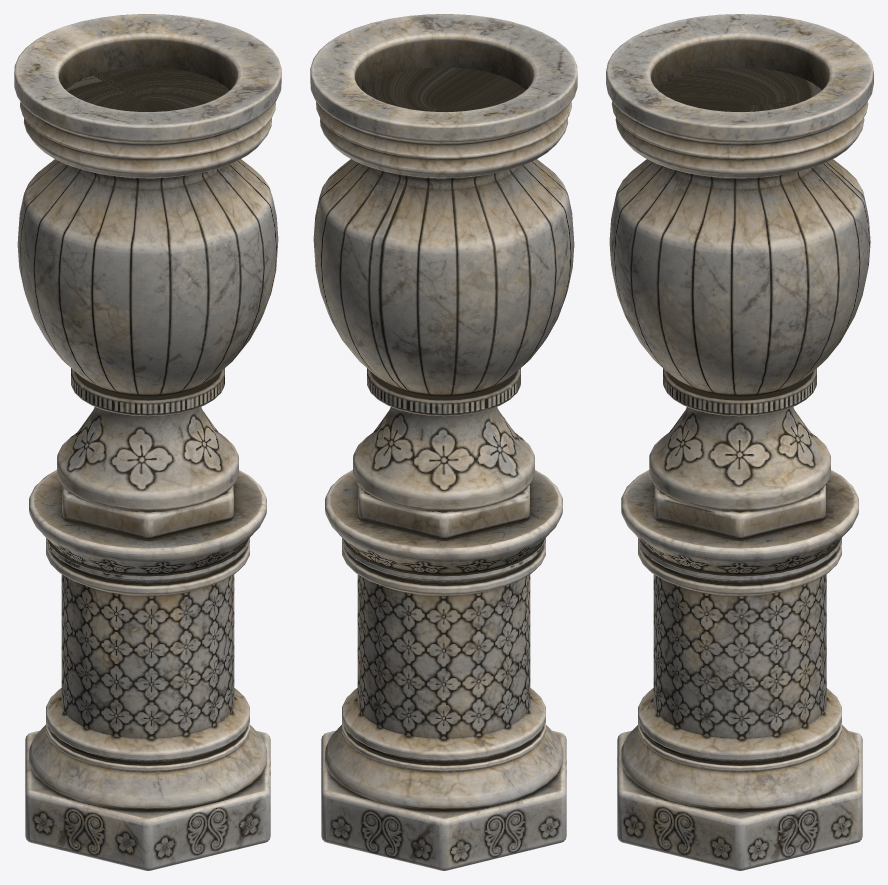
The model's file is vase_flower_pot_-_5mb.glb.
The picture shows the model from 3 angles, left to right: view 1: azimuth 30°, elevation 25°; view 2: azimuth 150°, elevation 25°; view 3: azimuth 270°, elevation 25°; orthographic projection.
Visible parts, largest first — view 1: vase; view 2: vase; view 3: vase.
Part boxes in pixels (x1,y1,x2,y2): vase: (14,14,281,870); vase: (310,14,577,870); vase: (606,14,873,870).
Bounding box in the file's own units: 0.3334 × 0.9772 × 0.319.
1 material, 1 textured.
